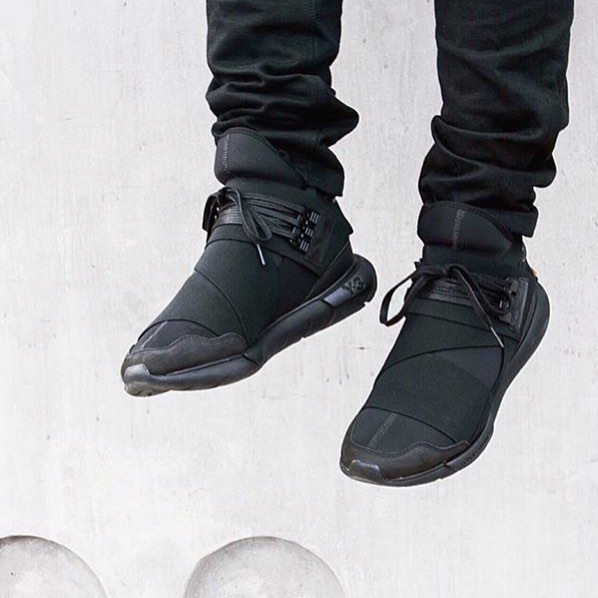sneaker: (100, 121, 384, 424), (309, 178, 560, 496)
